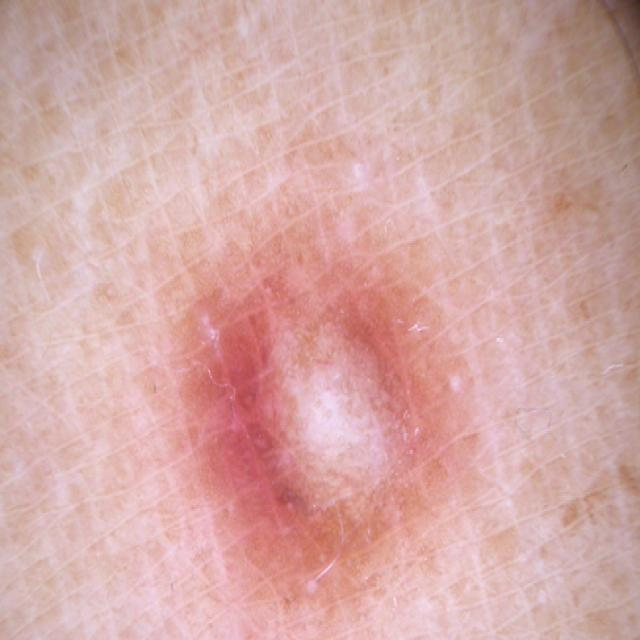Dermatofibroma: (158, 218, 518, 640)
